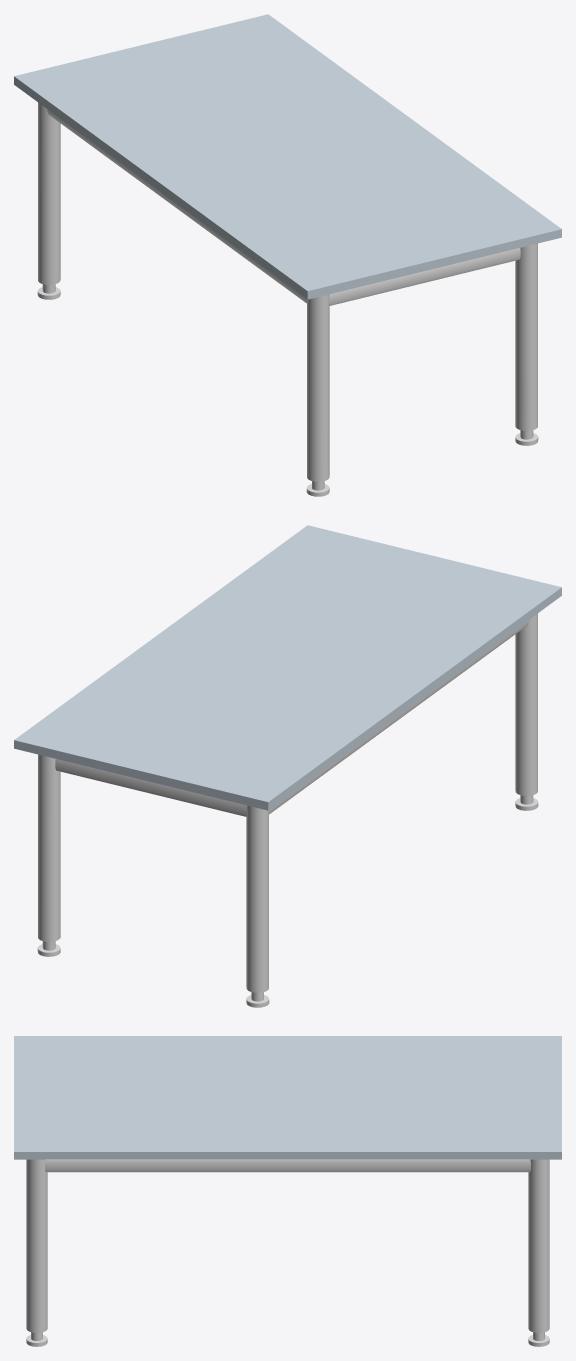
Rendered from OfficeTable.fbx.
3 renders of one model, top to bottom at view 1: azimuth 30°, elevation 25°; view 2: azimuth 150°, elevation 25°; view 3: azimuth 270°, elevation 25°, orthographic. The views are drawn at different scales.
Visible parts, largest first — view 1: Plane; view 2: Plane; view 3: Plane.
Boxes of the visible parts, x1,y1,x2,y2 form: Plane: (14,14,561,496); Plane: (14,525,561,1007); Plane: (14,1036,561,1346).
Size of the model in its own units: 1.8 by 0.9 by 0.7281.
